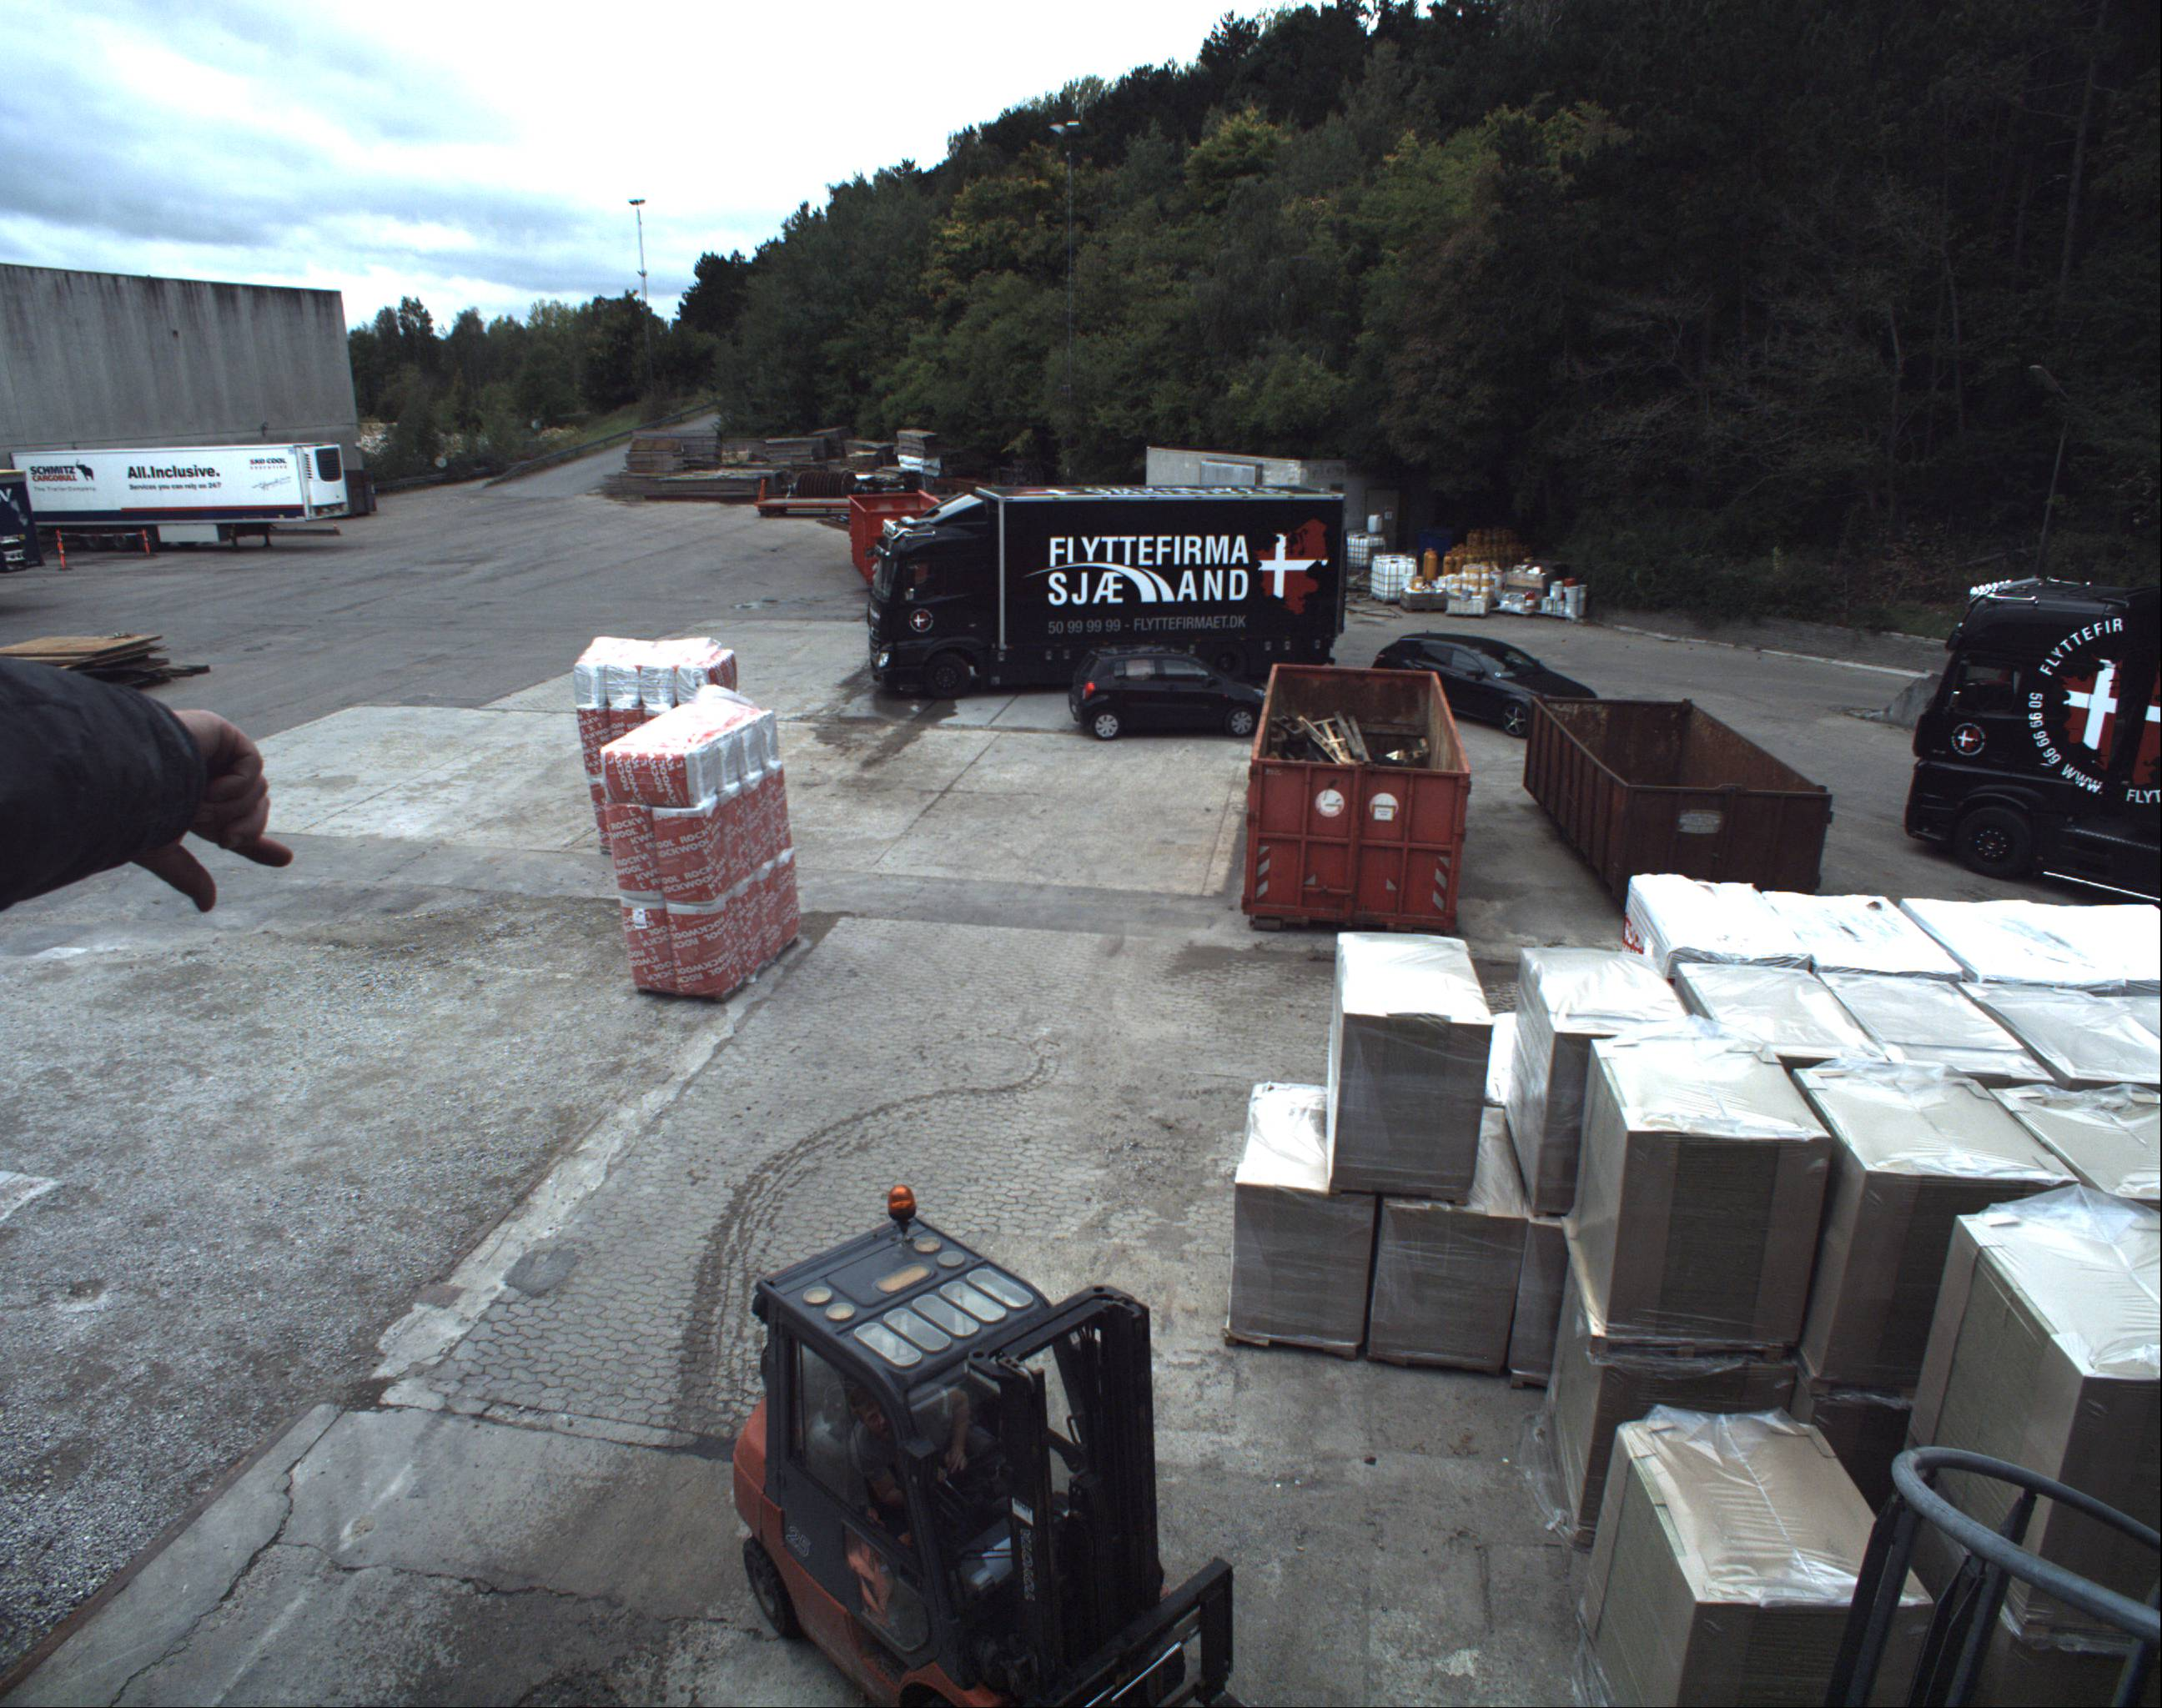rockwool_batts: (600, 686, 804, 1011), (583, 614, 741, 830)
